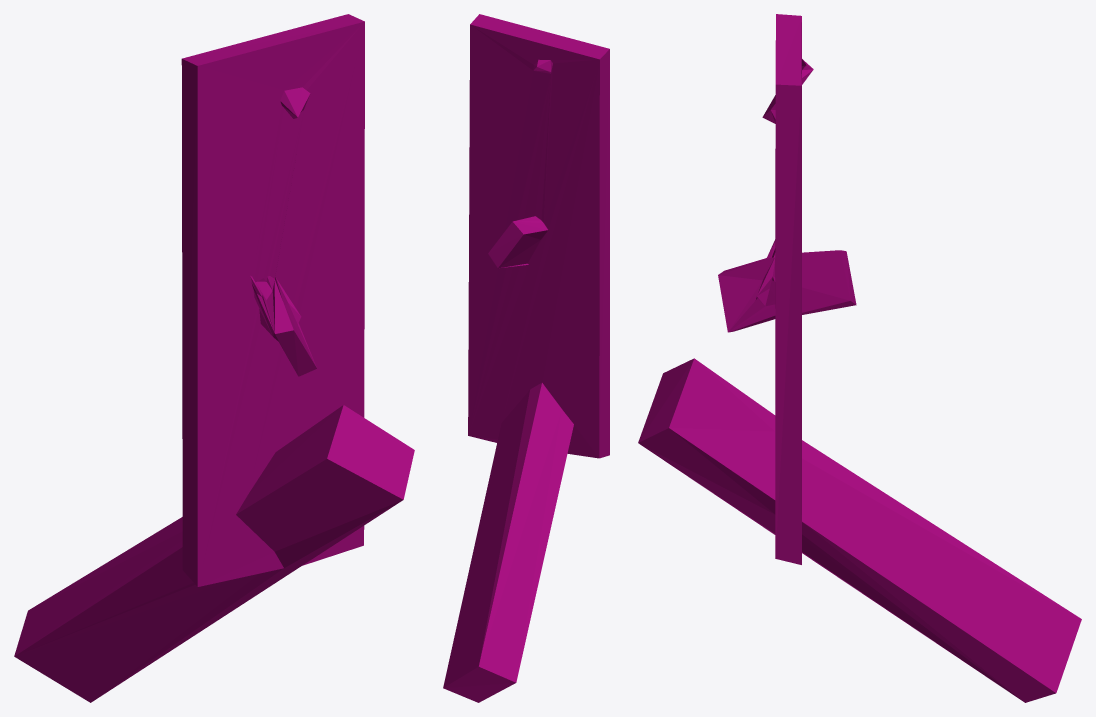
3 renders of one model, left to right at view 1: azimuth 30°, elevation 25°; view 2: azimuth 150°, elevation 25°; view 3: azimuth 270°, elevation 25°, orthographic. The views are drawn at different scales.
Visible parts, largest first — view 1: 700_Cube.2810; view 2: 700_Cube.2810; view 3: 700_Cube.2810.
Part boxes in pixels (x1=…): 700_Cube.2810: x1=14, y1=14, x2=414, y2=702; 700_Cube.2810: x1=443, y1=14, x2=609, y2=702; 700_Cube.2810: x1=638, y1=14, x2=1081, y2=702.
Size of the model in its own units: 4.78 by 17.17 by 10.18.
